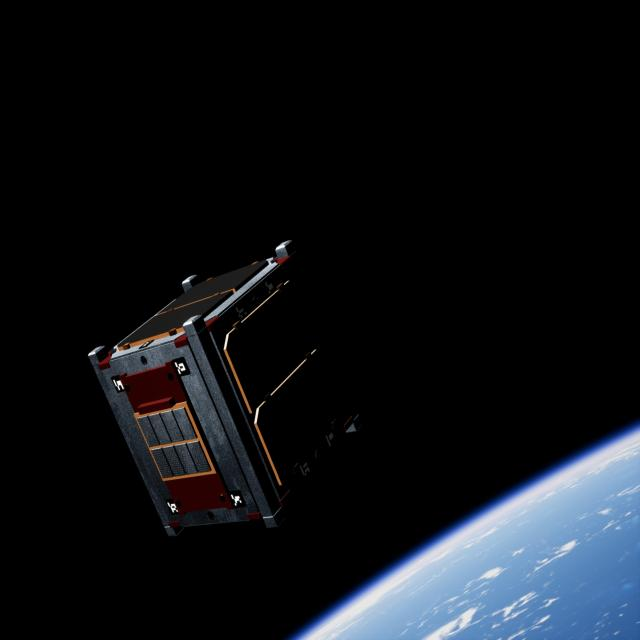medium_debris: (88, 232, 376, 538)
